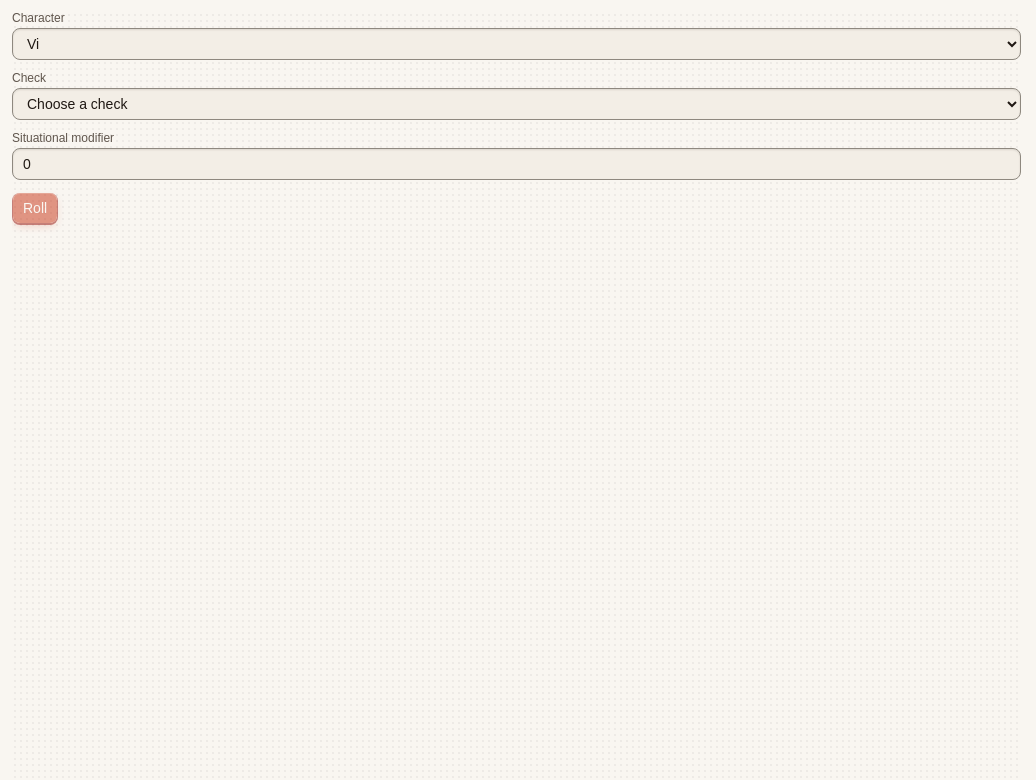
Scenario: CheckStepForm › a check set › preselects no check and cannot roll until the player picks one
Check: the button "Roll" is disabled, box [12,192,58,224]
Check: the field labelled "Extra dice" is not shown
Step 1. Select "Grip" in the dropdown labelled "Check" → (516, 104), box [12,88,1021,120]
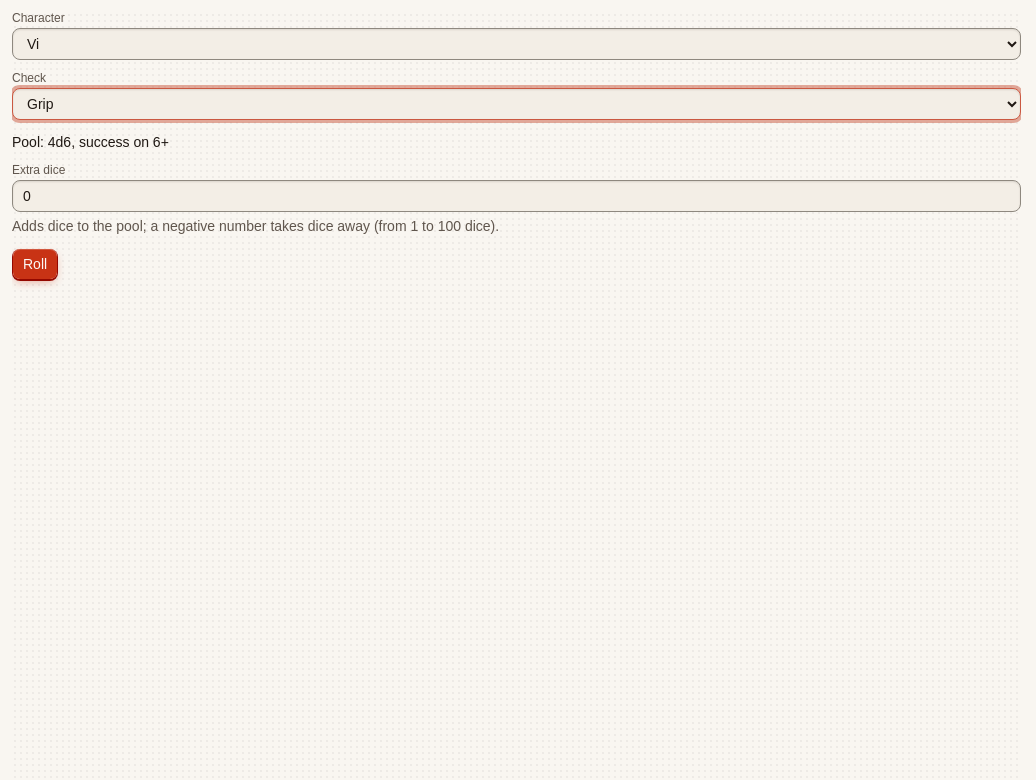
Check: the button "Roll" is enabled, box [12,248,58,280]
Check: the text "Pool: 4d6, success on 6+" is shown, box [12,134,169,150]
